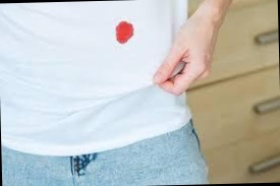blood: (113, 18, 136, 44)
